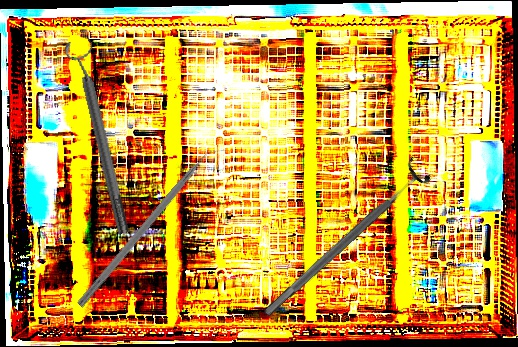Chopper: (76, 140, 228, 315)
Fixation Ring: (253, 154, 435, 327), (62, 36, 138, 238)
